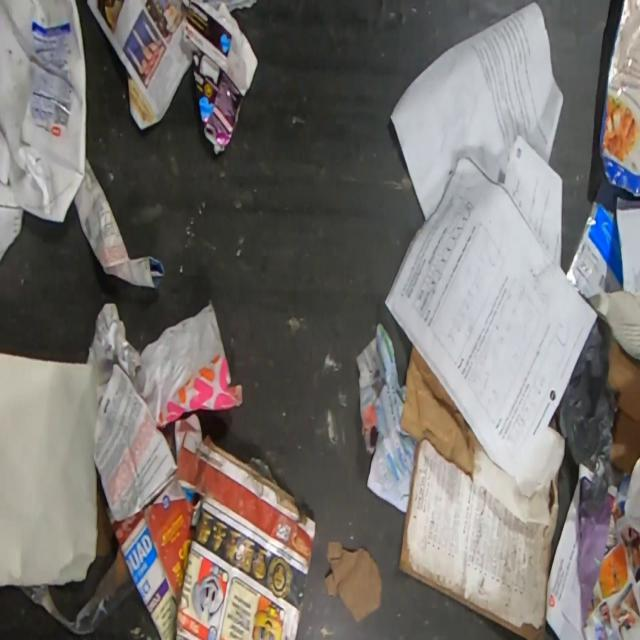cardboard: (93, 363, 319, 639), (398, 438, 560, 640), (399, 344, 565, 526), (0, 0, 86, 225), (567, 179, 633, 302), (608, 336, 640, 476)
soft_plastic: (549, 316, 617, 477), (20, 546, 136, 635), (598, 0, 640, 199)
